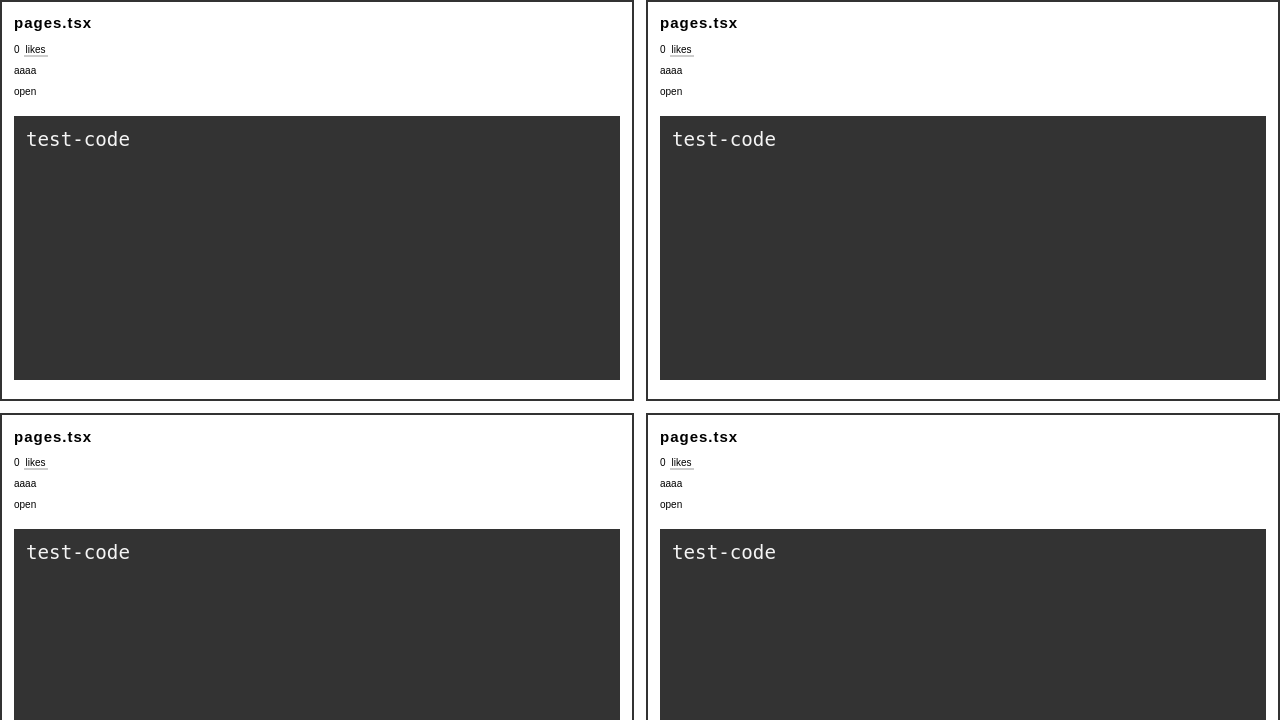
Scenario: should handle collapse event
What coordinates should you click on to do the following:
click the 1st link with test id "collapse-button"
I would click on:
 (25, 91)
Its box is left=14, top=86, right=36, bottom=97.
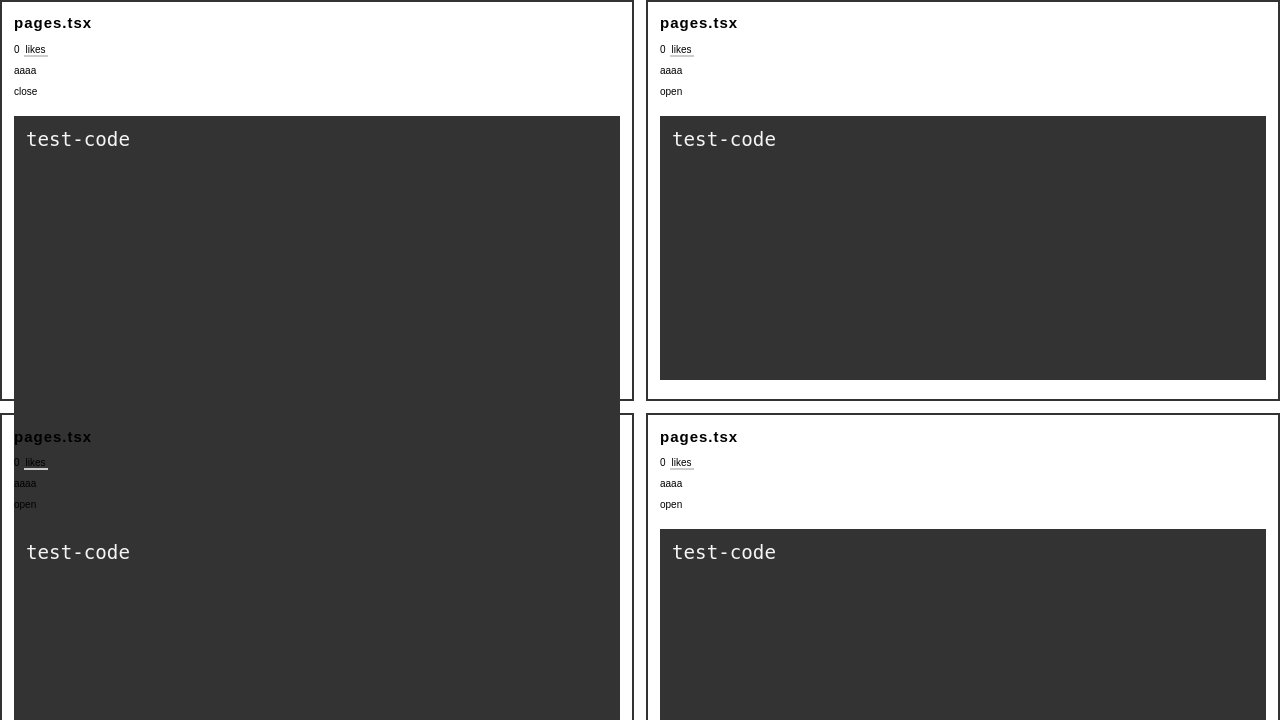
Check: the link with test id "collapse-button" reads "close", box left=14, top=86, right=37, bottom=97
